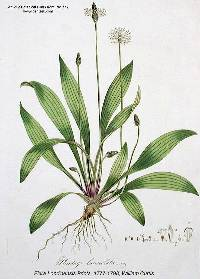buckhorn plantain: (21, 2, 194, 229)
